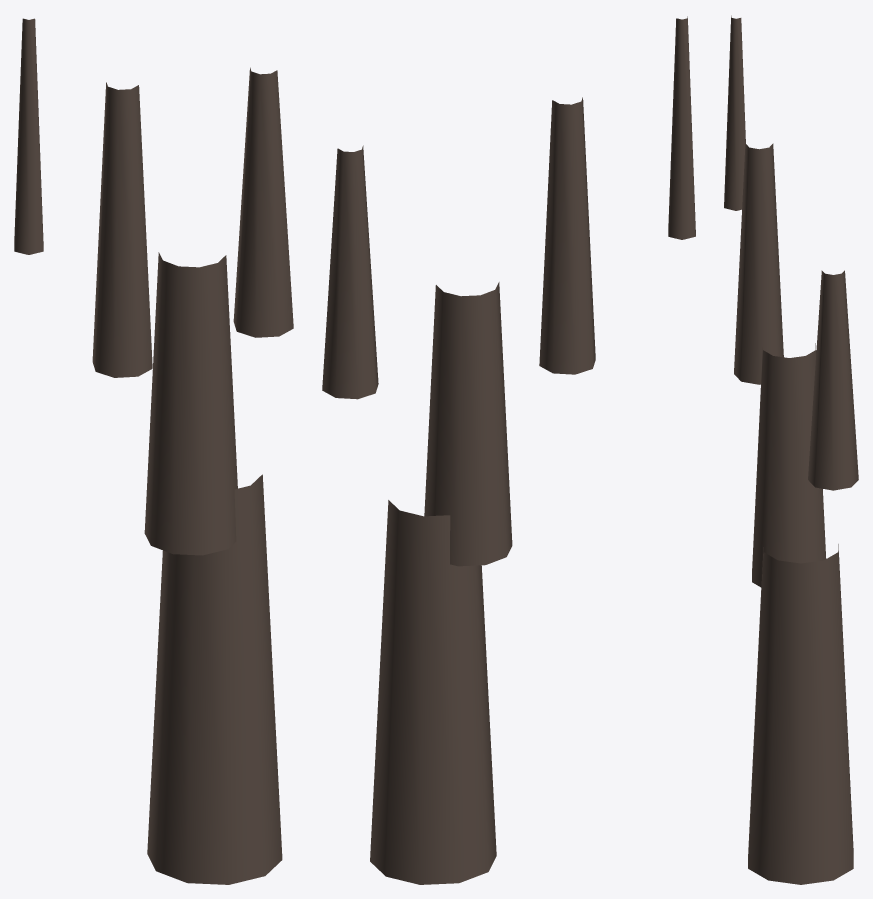
File: maple_tree.glb
3 views of the same model, side by side, from view 1: azimuth 30°, elevation 25°; view 2: azimuth 150°, elevation 25°; view 3: azimuth 270°, elevation 25° (orthographic). The views are drawn at different scales.
Visible parts, largest first — view 1: maple_tree; view 2: maple_tree; view 3: maple_tree.
Part boxes in pixels (left/top/right/bottom): maple_tree: left=14, top=18, right=293, bottom=884; maple_tree: left=322, top=16, right=695, bottom=884; maple_tree: left=724, top=15, right=858, bottom=884.
Bounding box in the file's own units: 1.37 × 3.6 × 0.582.
